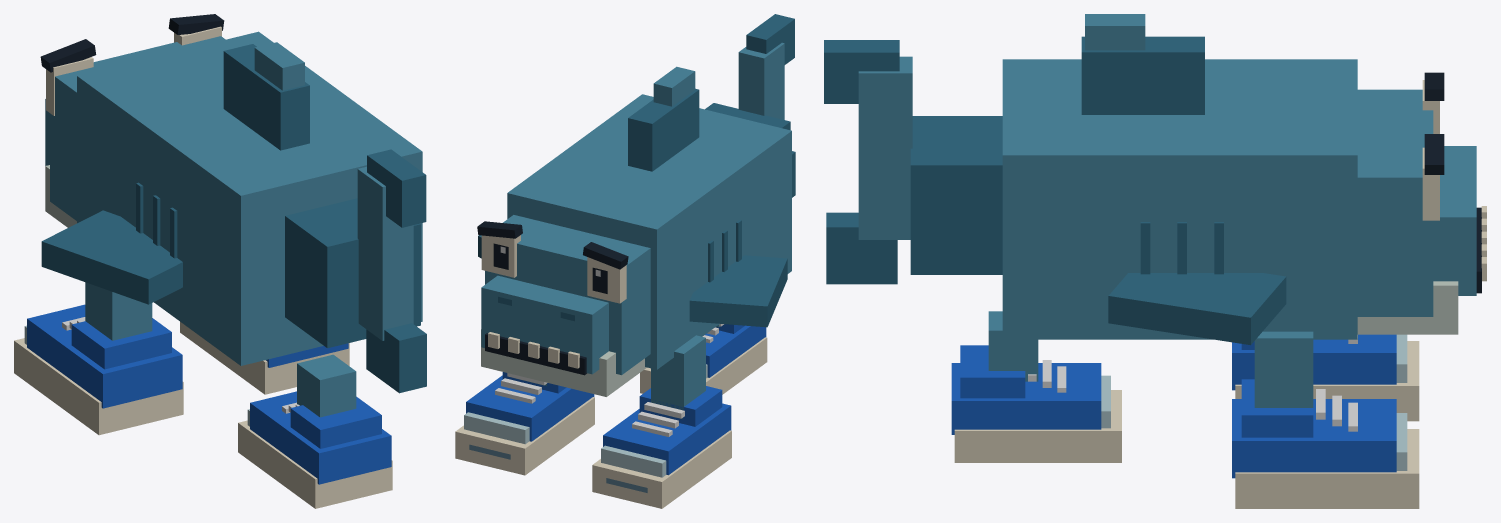
Rendered from TralaleroTralala.glb.
3 views of the same model, side by side, from view 1: azimuth 30°, elevation 25°; view 2: azimuth 150°, elevation 25°; view 3: azimuth 270°, elevation 25° (orthographic). The views are drawn at different scales.
Parts seen in each view (by area): view 1: TralaleroTralala; view 2: TralaleroTralala; view 3: TralaleroTralala.
Boxes of the visible parts, left/top/right/bottom form: TralaleroTralala: left=14, top=14, right=426, bottom=508; TralaleroTralala: left=455, top=14, right=795, bottom=508; TralaleroTralala: left=824, top=14, right=1486, bottom=508.
Size of the model in its own units: 2.12 by 2.25 by 3.2.
